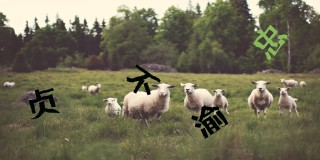不: (126, 64, 159, 95)
忠: (253, 25, 288, 60)
渝: (191, 105, 229, 139)
贞: (28, 87, 60, 120)
